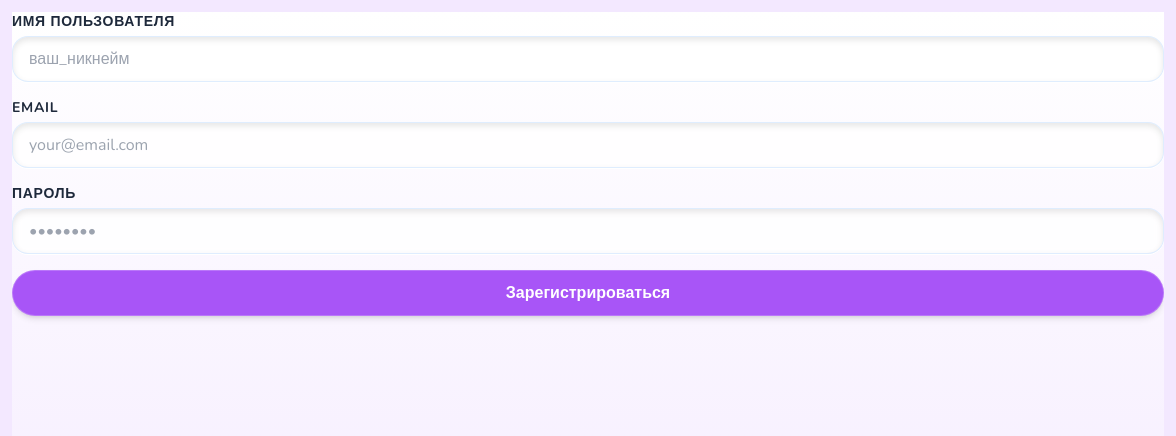
it: RegisterForm › displays global error when registration fails
Type "testuser" into the field with placeholder "ваш_никнейм" at (588, 59), box [12,36,1164,82]
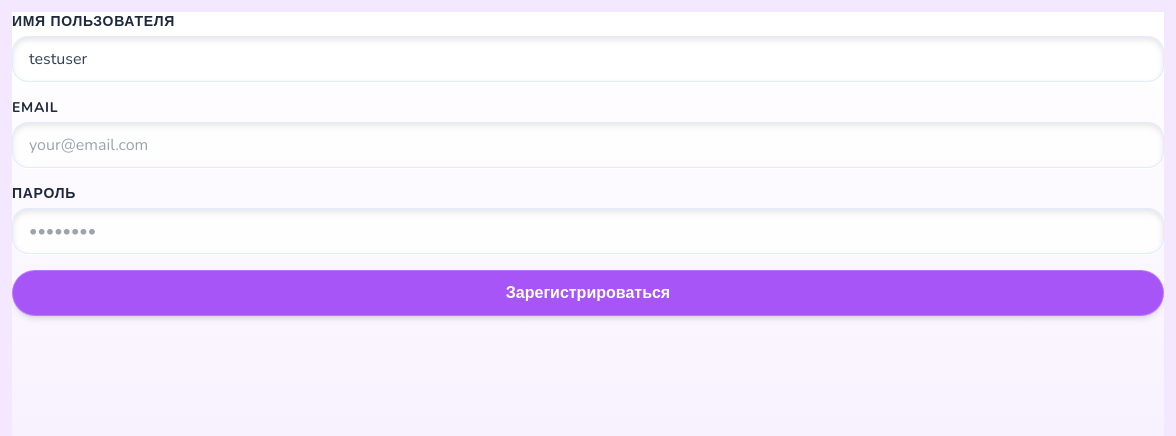
Type "test@example.com" into the field with placeholder "your@email.com" at (588, 145), box [12,122,1164,168]
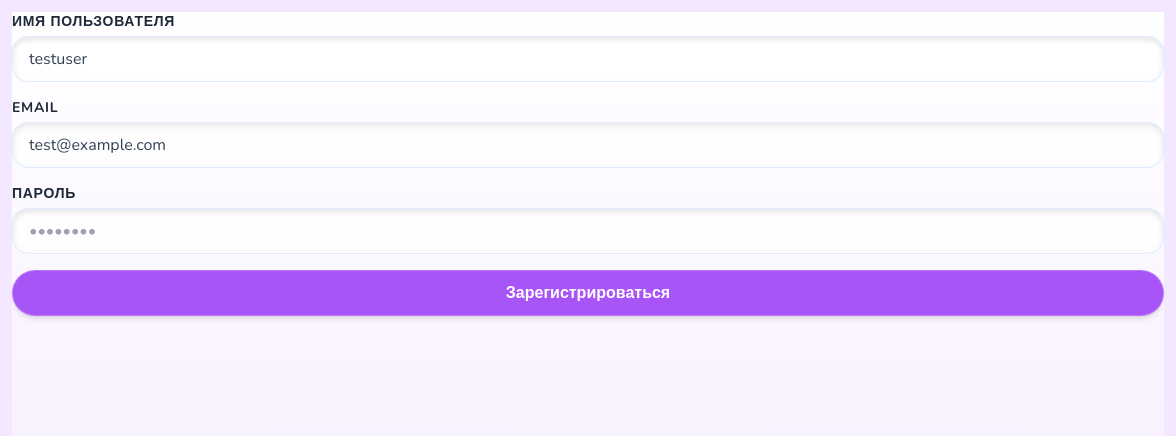
Type "password123" into the password field with placeholder "••••••••" at (588, 231), box [12,208,1164,254]
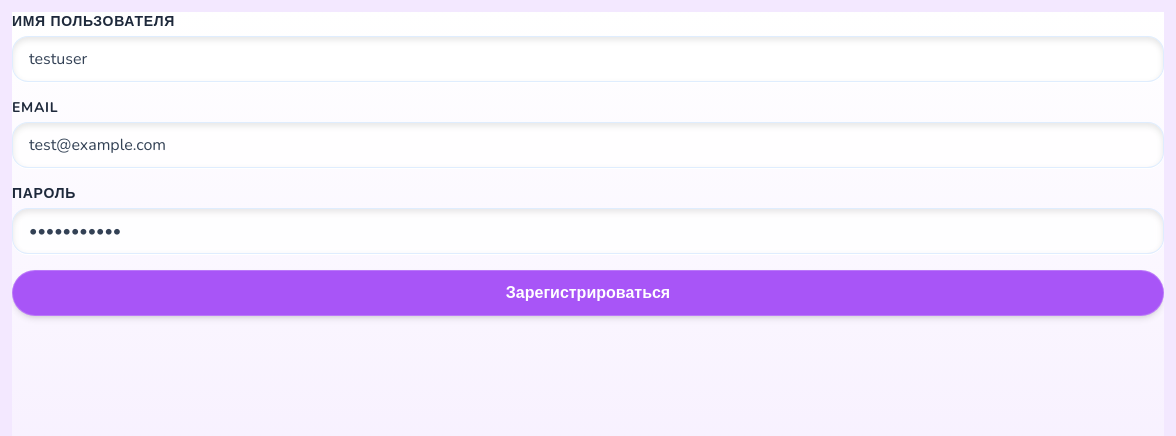
Click the button "Зарегистрироваться" at (588, 293), box [12,270,1164,316]
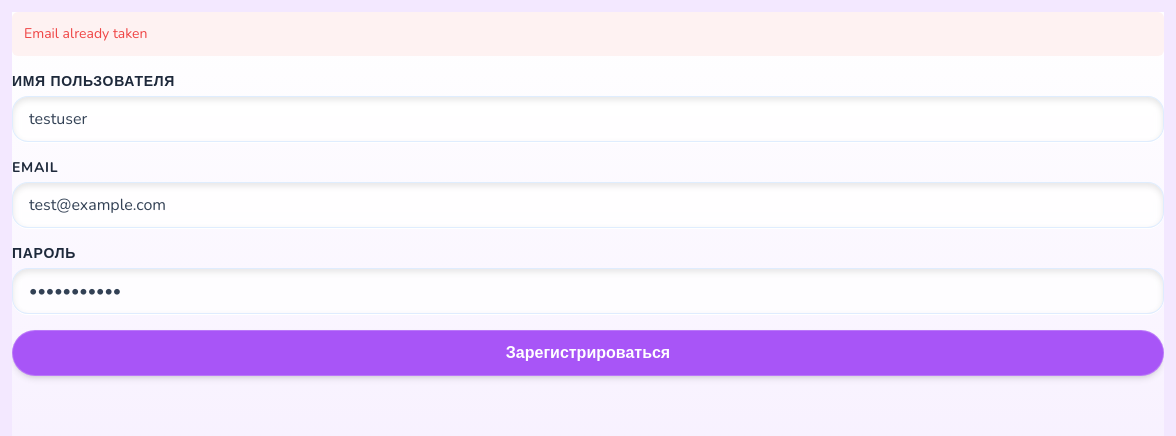
Now the text "Email already taken" is shown, box [12,12,1164,56]
